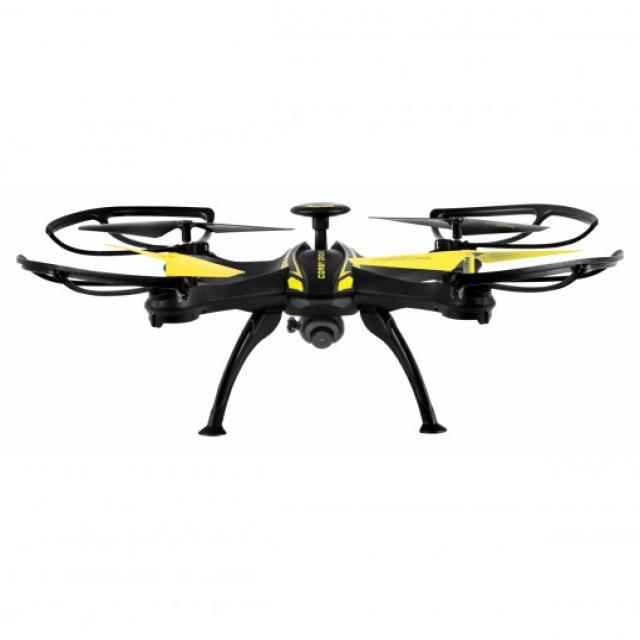drones: (18, 178, 630, 442)
